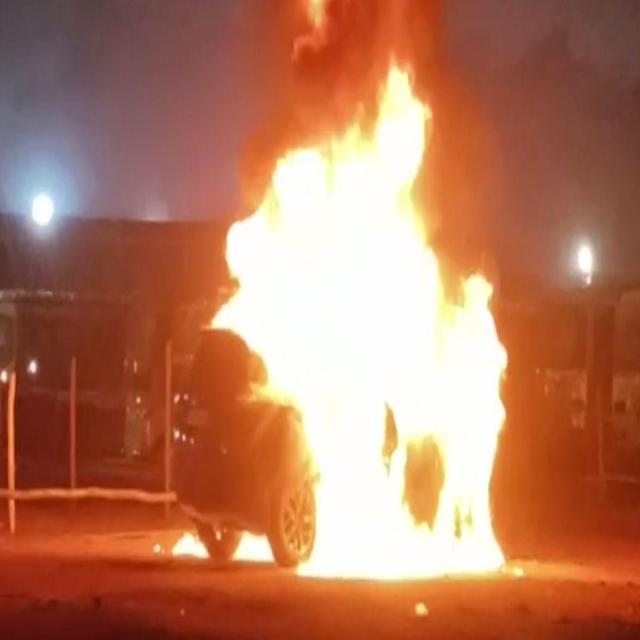fire: (210, 50, 506, 582), (231, 531, 274, 561)
